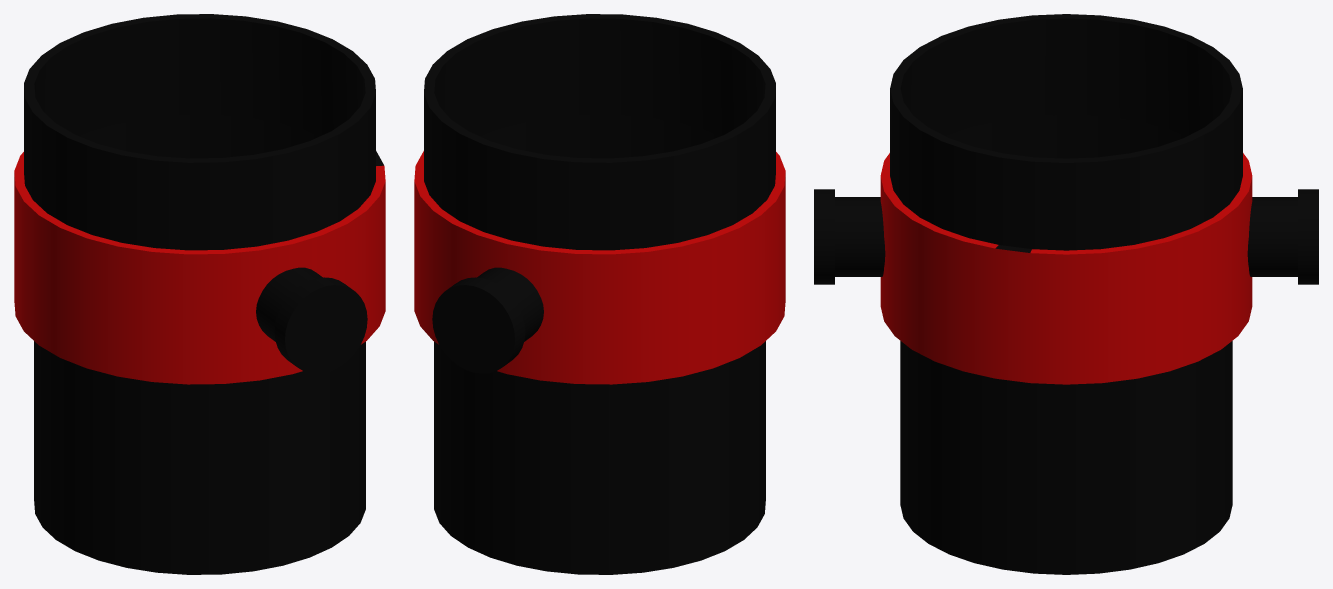
The model's file is contenantLiquidSteel.obj.
3 views of the same model, side by side, from view 1: azimuth 30°, elevation 25°; view 2: azimuth 150°, elevation 25°; view 3: azimuth 270°, elevation 25° (orthographic).
Visible parts, largest first — view 1: Cylinder, Cylinder.002, Cylinder.001; view 2: Cylinder, Cylinder.002, Cylinder.001; view 3: Cylinder, Cylinder.002, Cylinder.001.
Part boxes in pixels (x1,y1,x2,y2): Cylinder: (24, 14, 383, 574); Cylinder.002: (14, 152, 385, 384); Cylinder.001: (256, 267, 367, 373); Cylinder: (424, 14, 775, 574); Cylinder.002: (414, 151, 785, 384); Cylinder.001: (432, 267, 543, 373); Cylinder: (890, 14, 1242, 574); Cylinder.002: (880, 153, 1252, 384); Cylinder.001: (814, 189, 1318, 284).
Size of the model in its own units: 2.11 by 2.6 by 2.86.
